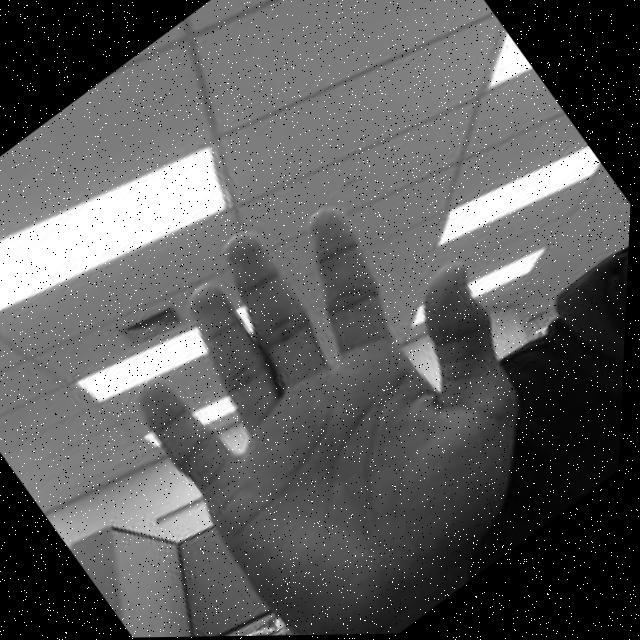no-gloves: (71, 128, 634, 638)
